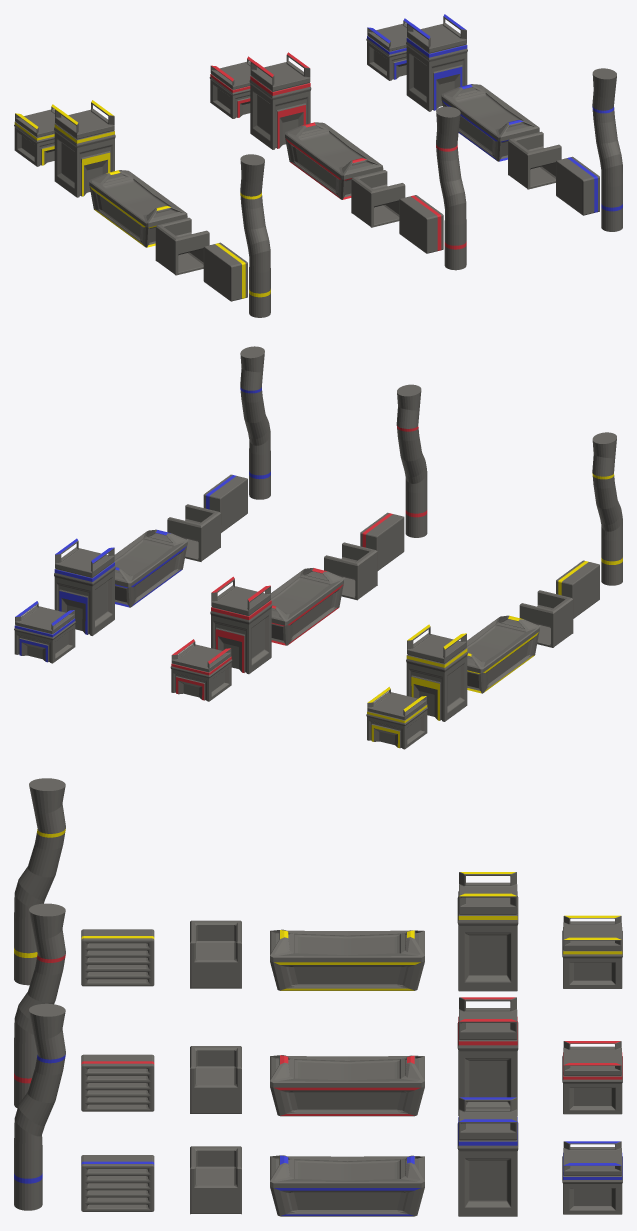
File: PROPSforROOMS.fbx
3 renders of one model, top to bottom at view 1: azimuth 30°, elevation 25°; view 2: azimuth 150°, elevation 25°; view 3: azimuth 270°, elevation 25°, orthographic. The views are drawn at different scales.
Visible parts, largest first — view 1: Cube.015, Cube.011, Cube.007, bench.001, bench, bench.002, Cylinder.005, Cylinder.006, Cylinder.004, Cube.009, Cube.005, Cube.013 (+6 smaller); view 2: Cube.007, Cube.011, Cube.015, bench.001, bench, bench.002, Cylinder.005, Cylinder.004, Cylinder.006, Cube.014, Cube.010, Cube.006 (+6 smaller); view 3: bench.002, bench.001, bench, Cube.015, Cube.007, Cylinder.006, Cube.011, Cylinder.004, Cylinder.005, Cube.010, Cube.006, Cube.014 (+6 smaller).
Boxes of the visible parts, x1,y1,x2,y2 form: Cube.015: (406,14,467,111); Cube.011: (249,52,311,149); Cube.007: (54,100,115,197); bench.001: (285,122,383,199); bench: (89,170,187,247); bench.002: (441,84,539,161); Cylinder.005: (436,106,466,270); Cylinder.006: (592,68,622,231); Cylinder.004: (240,154,270,317); Cube.009: (351,170,405,227); Cube.005: (155,217,209,275); Cube.013: (508,131,561,189); Cube.007: (406,624,467,721); Cube.011: (210,576,272,674); Cube.015: (54,538,115,635); bench.001: (271,568,343,645); bench: (466,615,539,693); bench.002: (114,529,187,607); Cylinder.005: (396,384,427,537); Cylinder.004: (592,432,622,585); Cylinder.006: (240,346,270,499); Cube.014: (14,601,75,663); Cube.010: (170,639,232,701); Cube.006: (366,687,427,749); bench.002: (270,1155,424,1216); bench.001: (270,1055,424,1116); bench: (270,929,424,990); Cube.015: (457,1097,518,1216); Cube.007: (457,872,518,991); Cylinder.006: (14,1003,65,1210); Cube.011: (457,997,518,1115); Cylinder.004: (14,778,65,985); Cylinder.005: (14,903,65,1108); Cube.010: (562,1041,622,1114); Cube.006: (562,915,622,988); Cube.014: (562,1141,622,1214).
Bounding box in the file's own units: 950 × 345 × 964.
